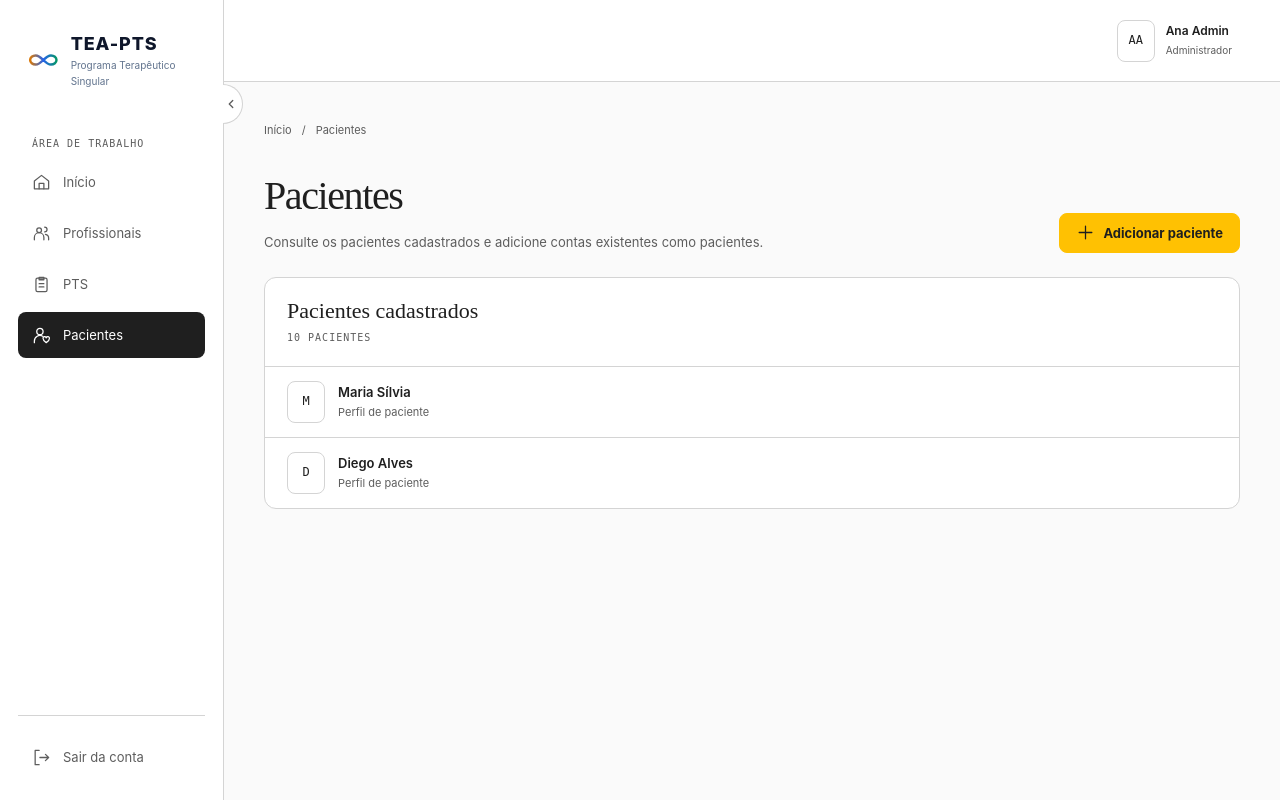
Test: PatientsPage › modal "Adicionar paciente" › carrega as contas que ainda não são pacientes
The width and height of the screenshot is (1280, 800).
Click the button "Adicionar paciente": coordinates (1150, 233) [1060, 213, 1240, 253]
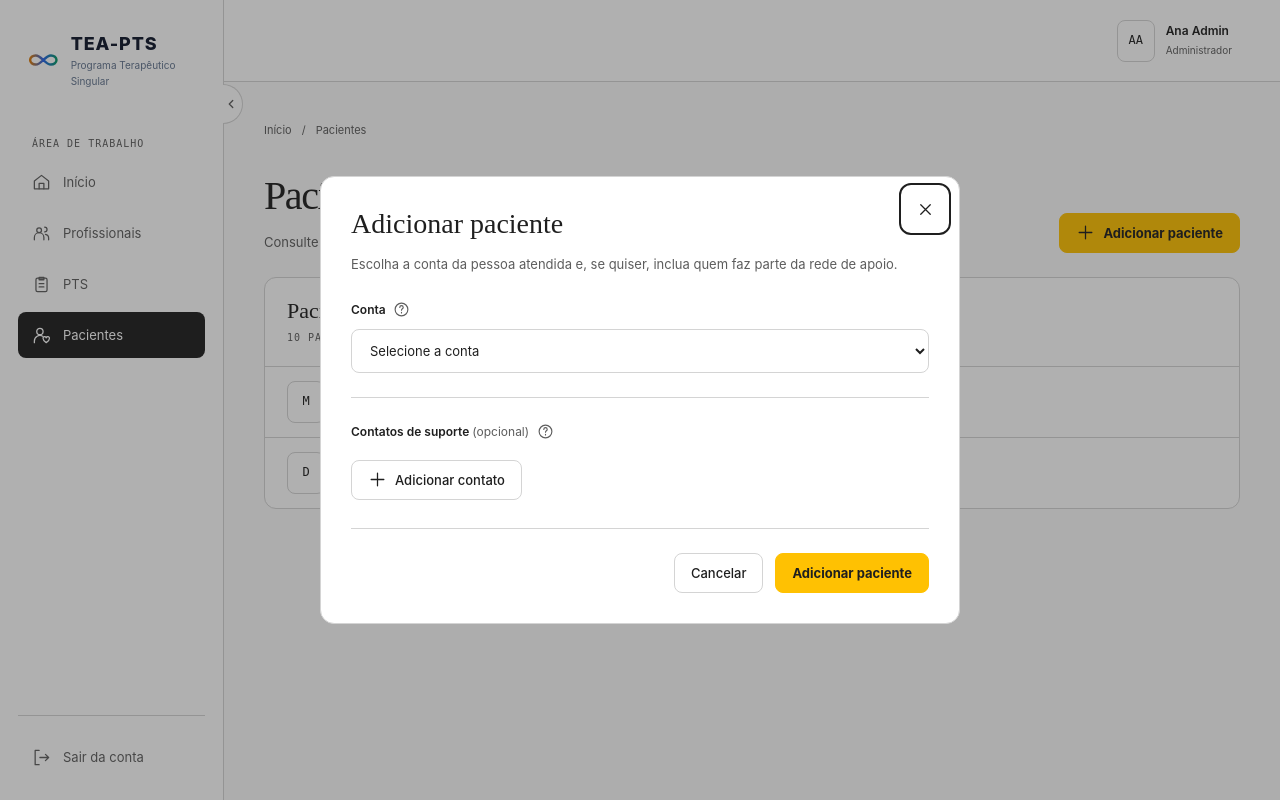
Expected: the dropdown labelled "Conta" is enabled, [351, 329, 929, 373]
